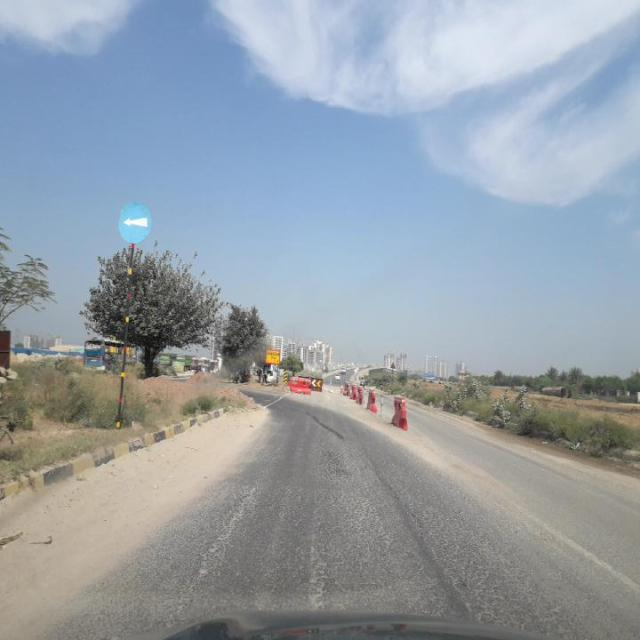D20: (165, 442, 630, 620)
D40: (187, 483, 253, 607)
